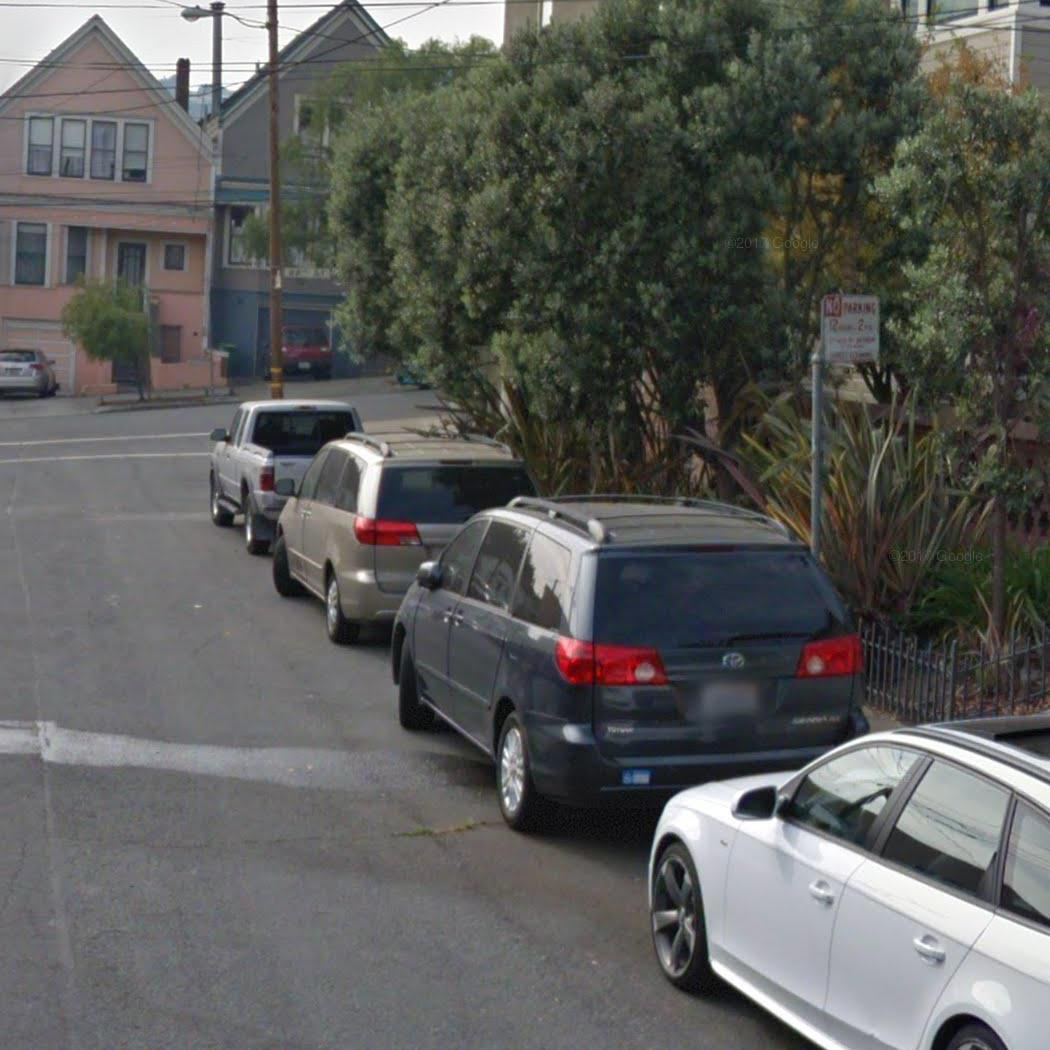No Parking: (822, 291, 881, 363)
